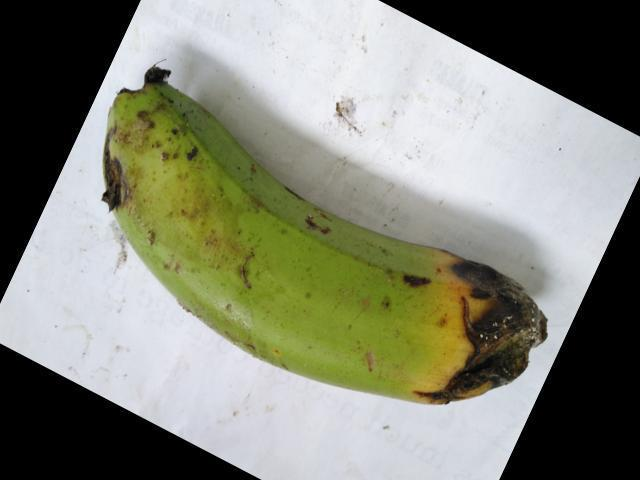rotten: (373, 245, 546, 441)
unripe: (95, 72, 422, 405)
